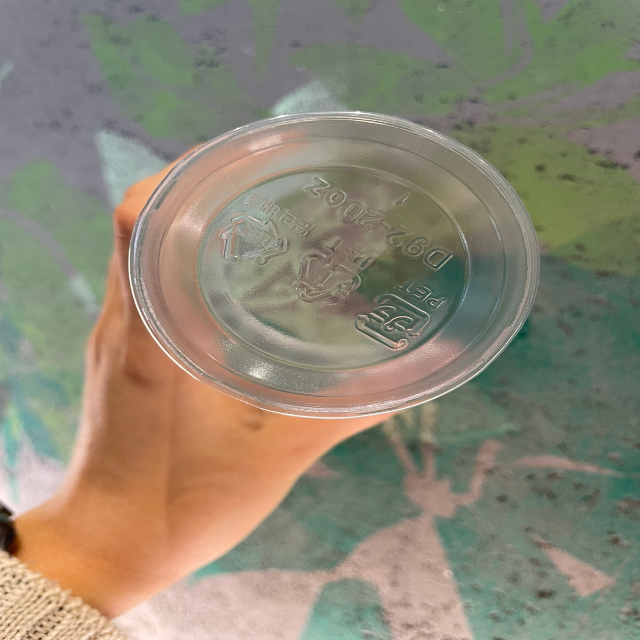pet: (223, 188, 313, 269), (357, 277, 446, 352), (295, 235, 375, 312)
